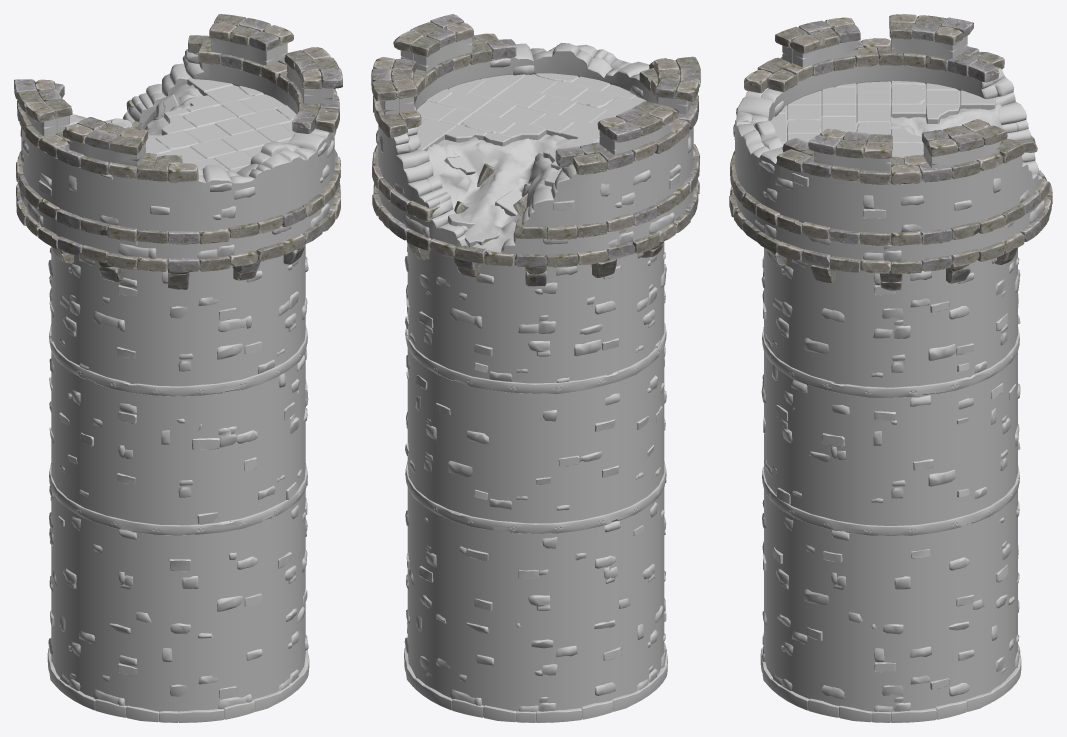
3 views of the same model, side by side, from view 1: azimuth 30°, elevation 25°; view 2: azimuth 150°, elevation 25°; view 3: azimuth 270°, elevation 25° (orthographic).
Parts seen in each view (by area): view 1: SM_Fortress_Tower_4x12_01_v2_Dmg_LOD0; view 2: SM_Fortress_Tower_4x12_01_v2_Dmg_LOD0; view 3: SM_Fortress_Tower_4x12_01_v2_Dmg_LOD0.
Part boxes in pixels (x1,y1,x2,y2): SM_Fortress_Tower_4x12_01_v2_Dmg_LOD0: (14,14,342,722); SM_Fortress_Tower_4x12_01_v2_Dmg_LOD0: (371,14,700,722); SM_Fortress_Tower_4x12_01_v2_Dmg_LOD0: (729,14,1052,722).
Size of the model in its own units: 9.38 by 18.66 by 9.33.
